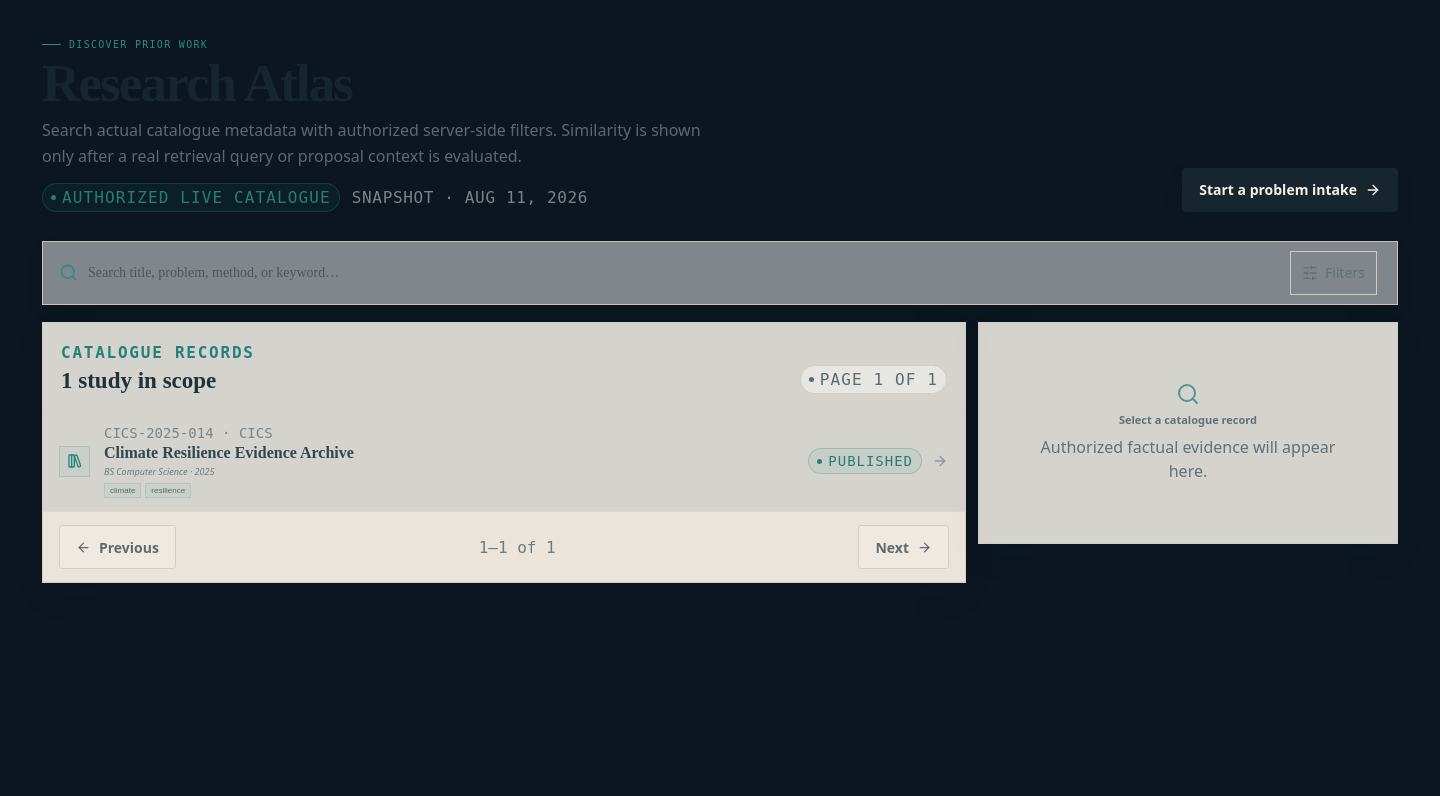
Test: server-backed Research Atlas › uses the paginated catalogue search but never presents an unrelated similarity score
Expected: the text "Select a catalogue record" is shown, [1119,412,1257,429]
Click the button "Climate Resilience Evidence Archive" at point(74, 461), box [43,412,965,512]
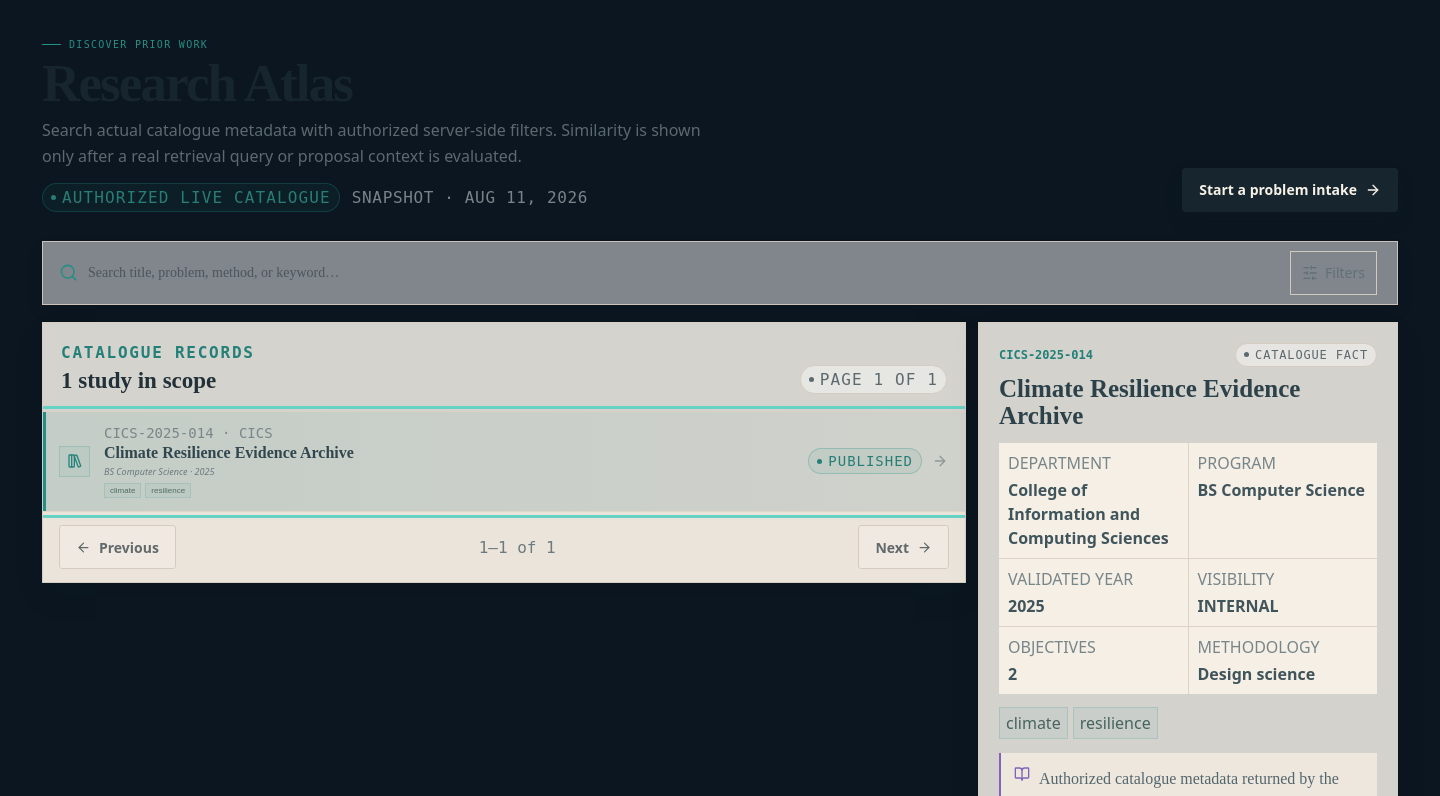
Type "flood" into the field named "Search studies" at point(684, 273), box [88,251,1280,295]
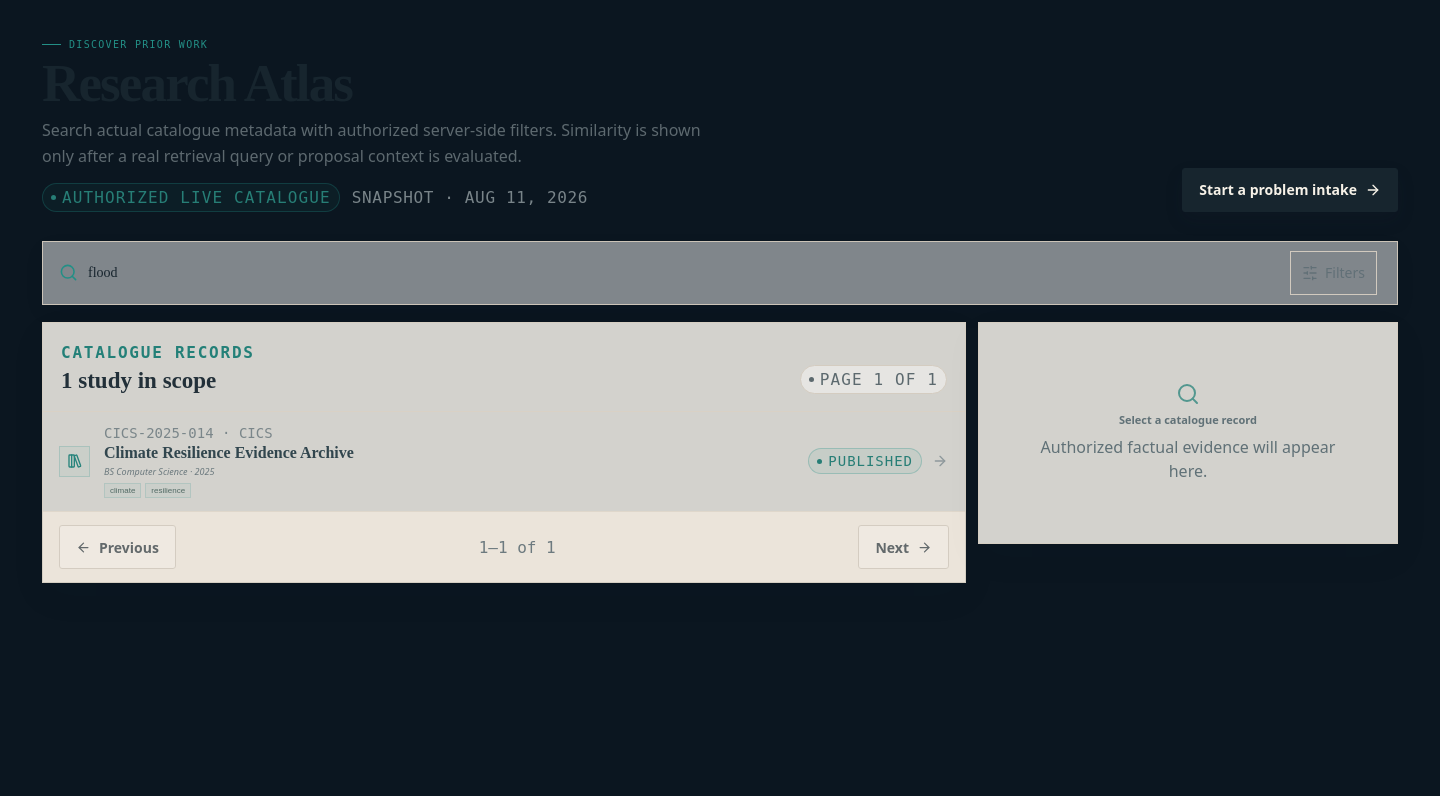
Result: the text "Select a catalogue record" is shown at [1119,412,1257,429]
